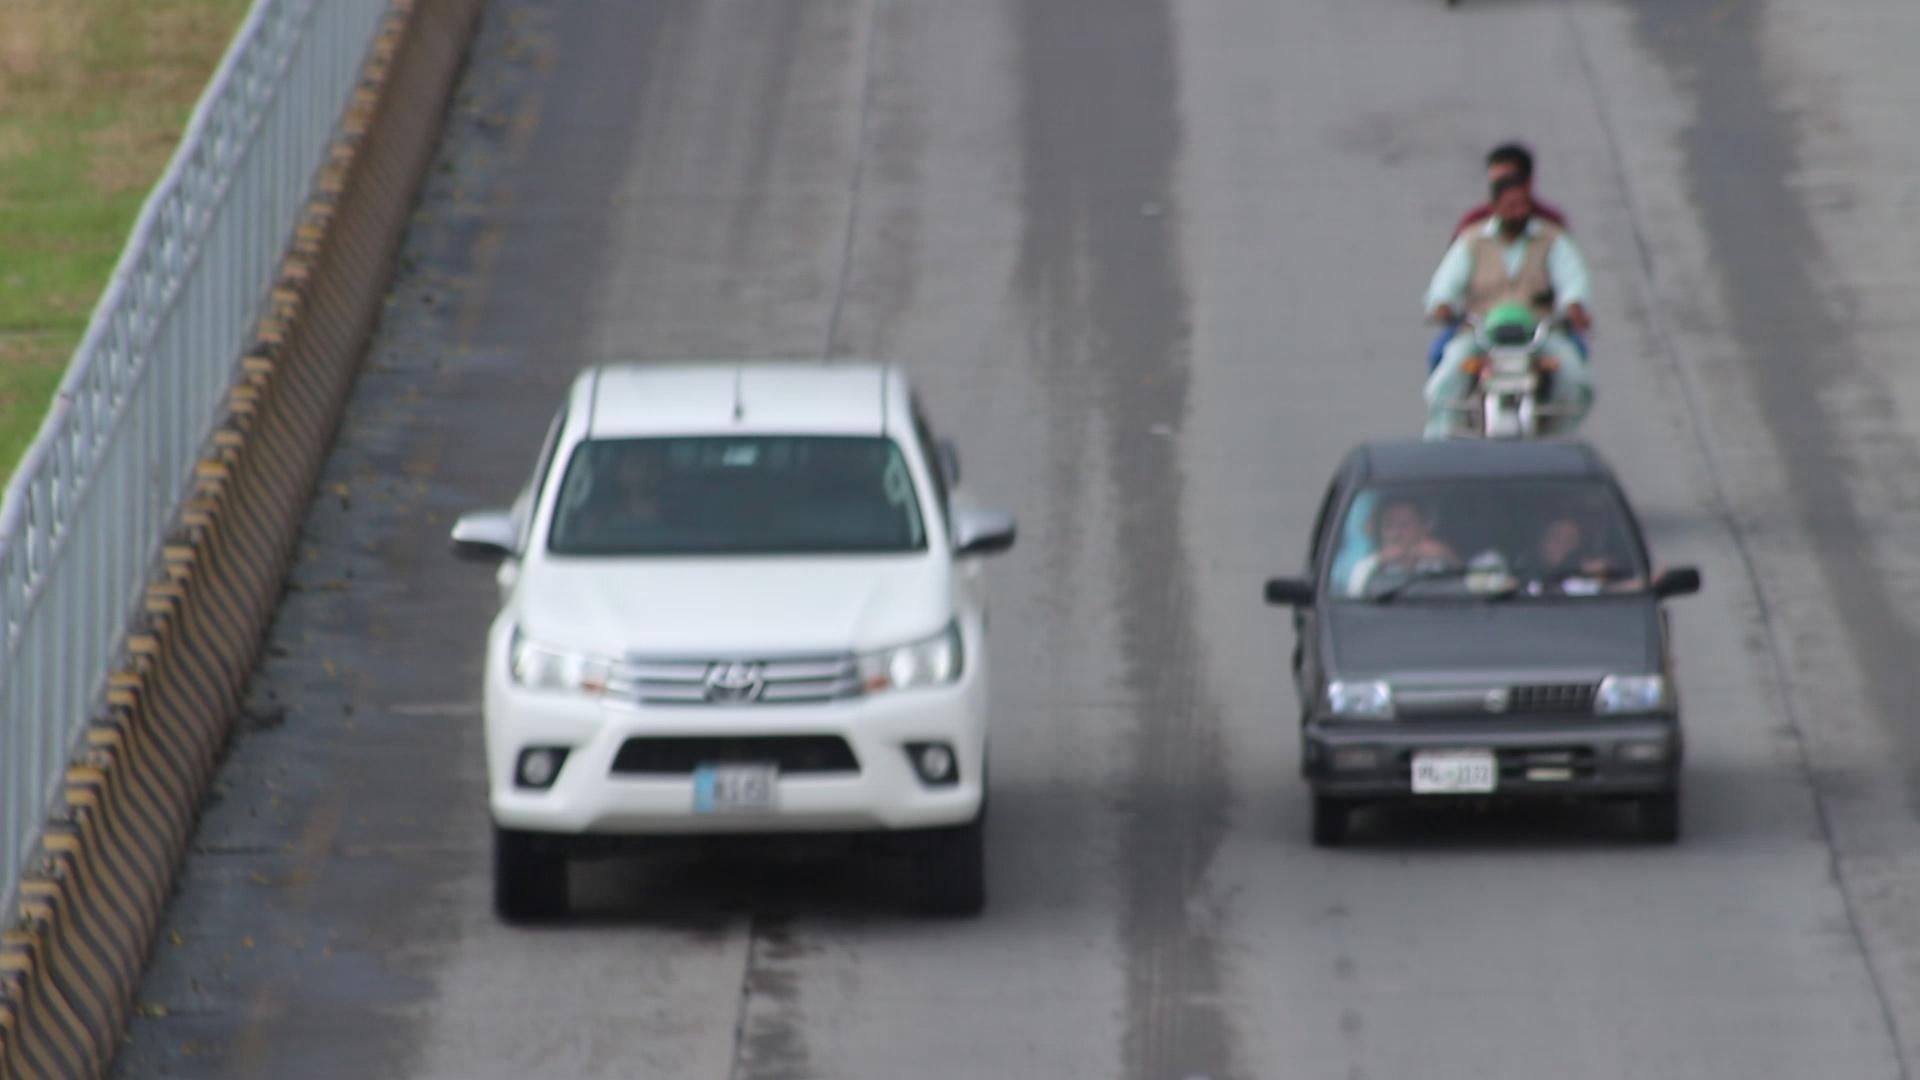windshield: (524, 413, 947, 574), (1317, 456, 1671, 611)
